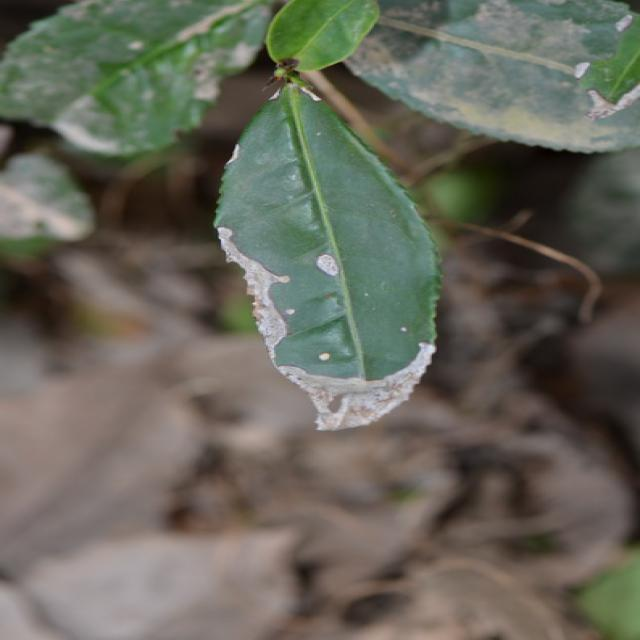Tea cloud leaf blight: (180, 216, 486, 422)
